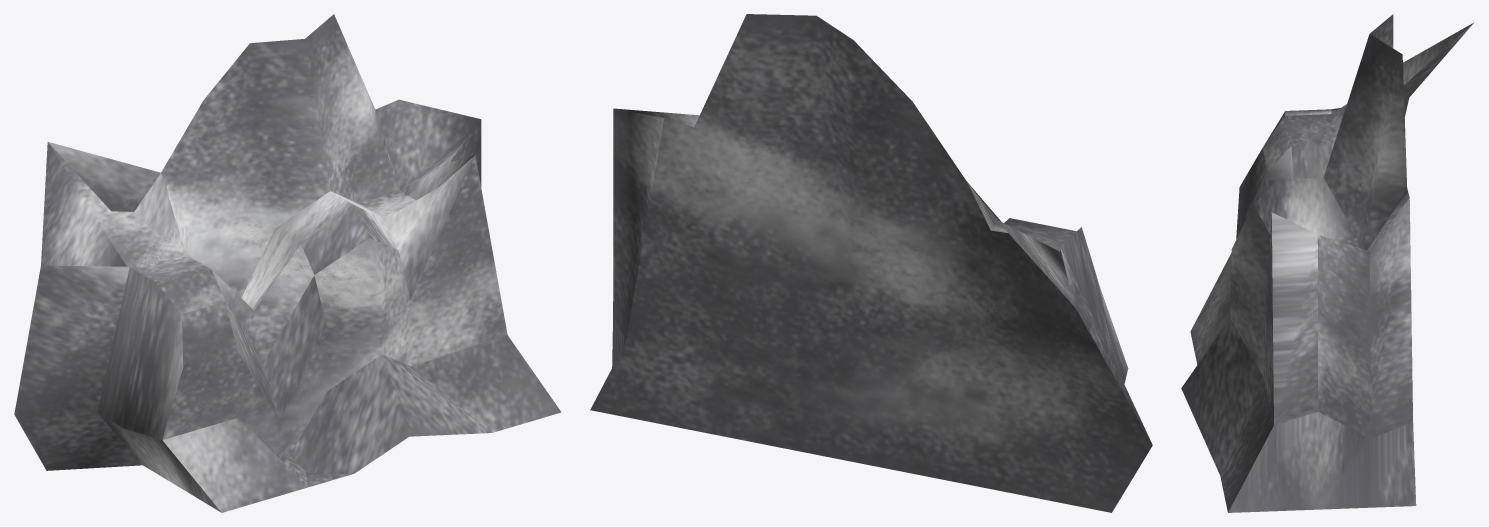
File: Mountain1 - Level 1.FBX
3 renders of one model, left to right at view 1: azimuth 30°, elevation 25°; view 2: azimuth 150°, elevation 25°; view 3: azimuth 270°, elevation 25°, orthographic. The views are drawn at different scales.
Parts seen in each view (by area): view 1: Mountain 1; view 2: Mountain 1; view 3: Mountain 1.
Boxes of the visible parts, left/top/right/bottom form: Mountain 1: left=14, top=14, right=561, bottom=512; Mountain 1: left=590, top=14, right=1152, bottom=512; Mountain 1: left=1181, top=14, right=1473, bottom=512.
Size of the model in its own units: 311 by 230 by 159.
1 material, 1 textured.
